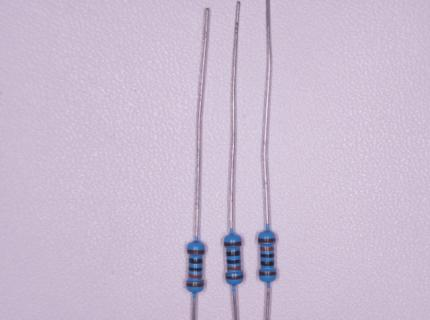Black band: (189, 257, 203, 264), (260, 260, 275, 266), (227, 251, 241, 256), (260, 253, 274, 258), (189, 267, 203, 272), (227, 259, 240, 264)
Brown band: (187, 249, 205, 255), (224, 242, 242, 247), (259, 271, 277, 276), (259, 238, 276, 243), (225, 275, 243, 279), (186, 283, 204, 287)
Orange band: (227, 266, 241, 271), (260, 246, 274, 251), (189, 274, 202, 279)
